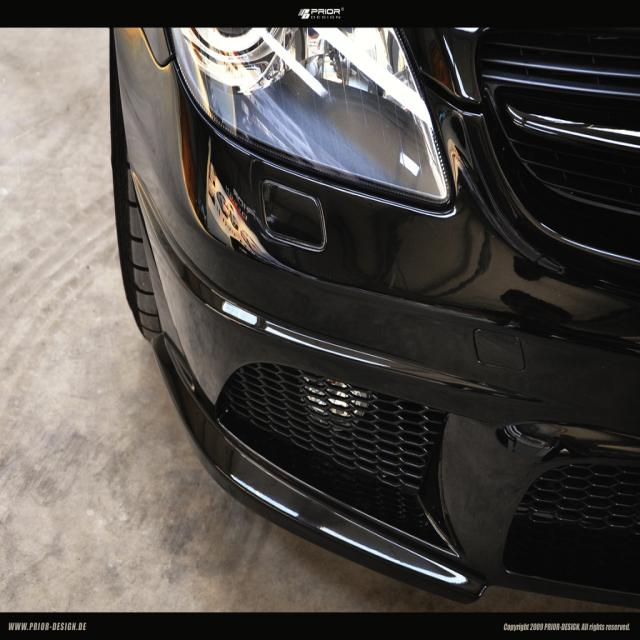car: (107, 0, 603, 611)
